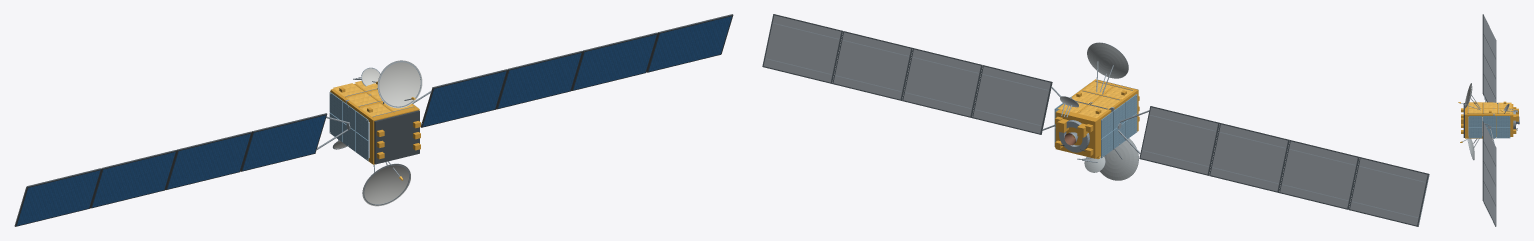
The model's file is spacebus-4000c2-twin.glb.
3 renders of one model, left to right at view 1: azimuth 30°, elevation 25°; view 2: azimuth 150°, elevation 25°; view 3: azimuth 270°, elevation 25°, orthographic. The views are drawn at different scales.
Parts seen in each view (by area): view 1: Solar cell panel (×8), Solar panel frame (×8), Earth-facing deck, APSTAR-6 reflector 2 face, APSTAR-6 reflector 1 face, Payload module; view 2: Rear array substrate (×8), Solar panel frame (×8), Service module, APSTAR-6 reflector 1 insulated back, APSTAR-6 reflector 2 insulated back, Payload module, Launch adapter ring; view 3: Rear array substrate (×8), Radiator tile bay (×6), Solar panel frame (×8), Overlapping thermal blanket (×6), Payload module, Service module, APSTAR-6 reflector 1 insulated back, APSTAR-6 reflector 2 face, Earth-facing deck, APSTAR-6 reflector 2 edge.
Part boxes in pixels (bbox=[...]): Solar cell panel (×8): bbox=[17, 16, 731, 225]; Solar panel frame (×8): bbox=[15, 14, 733, 226]; Earth-facing deck: bbox=[374, 110, 419, 164]; APSTAR-6 reflector 2 face: bbox=[378, 60, 422, 108]; APSTAR-6 reflector 1 face: bbox=[362, 164, 410, 206]; Payload module: bbox=[347, 95, 419, 164]; Rear array substrate (×8): bbox=[763, 15, 1427, 225]; Solar panel frame (×8): bbox=[762, 14, 1429, 226]; Service module: bbox=[1055, 102, 1111, 158]; APSTAR-6 reflector 1 insulated back: bbox=[1100, 138, 1138, 180]; APSTAR-6 reflector 2 insulated back: bbox=[1087, 43, 1128, 78]; Payload module: bbox=[1071, 79, 1138, 131]; Launch adapter ring: bbox=[1059, 120, 1089, 152]; Rear array substrate (×8): bbox=[1483, 15, 1495, 225]; Radiator tile bay (×6): bbox=[1468, 116, 1510, 138]; Solar panel frame (×8): bbox=[1482, 14, 1496, 226]; Overlapping thermal blanket (×6): bbox=[1468, 102, 1511, 113]; Payload module: bbox=[1465, 102, 1493, 138]; Service module: bbox=[1494, 104, 1513, 136]; APSTAR-6 reflector 1 insulated back: bbox=[1468, 138, 1474, 159]; APSTAR-6 reflector 2 face: bbox=[1464, 83, 1471, 107]; Earth-facing deck: bbox=[1463, 103, 1464, 137]; APSTAR-6 reflector 2 edge: bbox=[1464, 83, 1471, 108].
Bounding box in the file's own units: 38 × 7.36 × 5.27.
11 materials, 2 textured.
